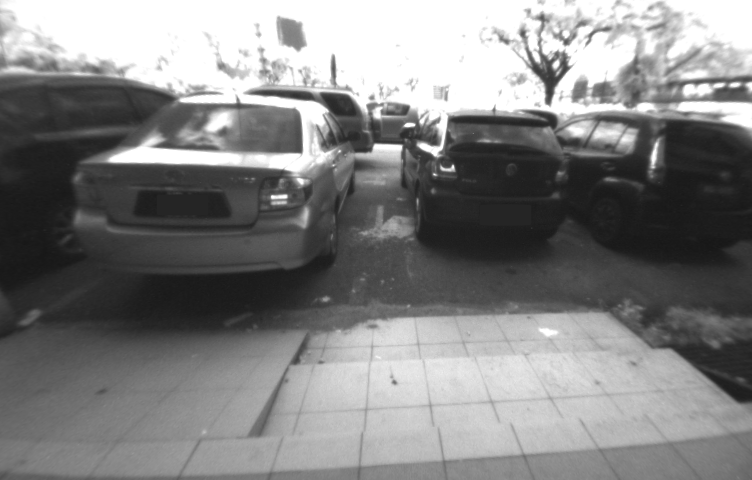down_steps: (254, 306, 739, 455)
mixed_gradient: (200, 314, 355, 459)
